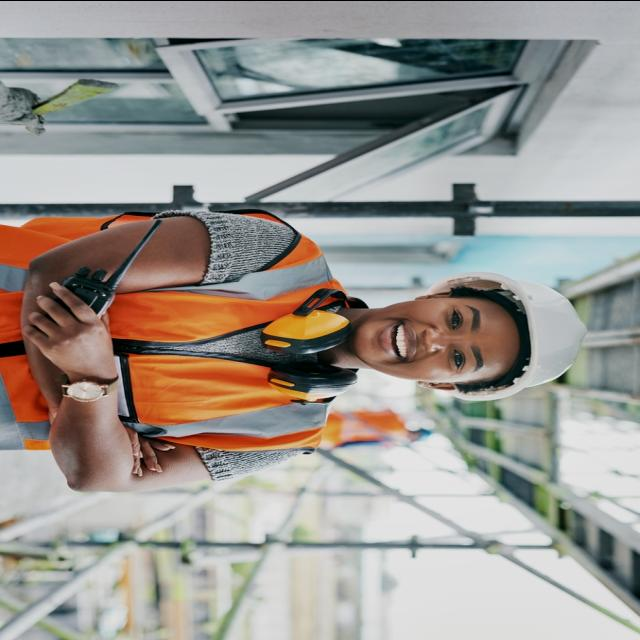Ear Muffs: (256, 284, 374, 410)
Hard Hat: (422, 269, 590, 403)
Reflective Vest: (0, 203, 362, 459), (311, 406, 413, 452)
